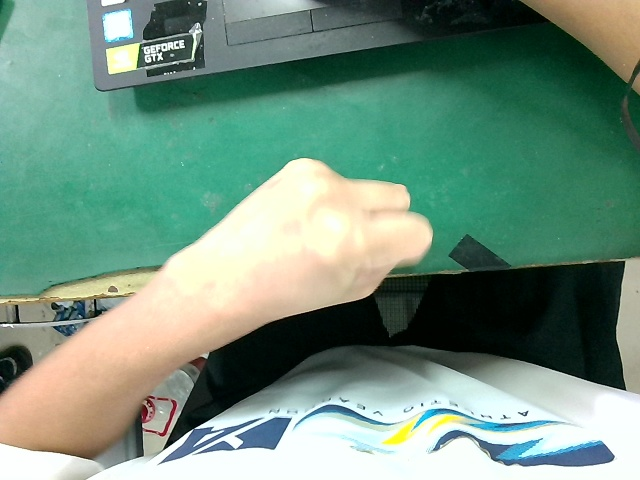stone: (188, 140, 442, 344)
